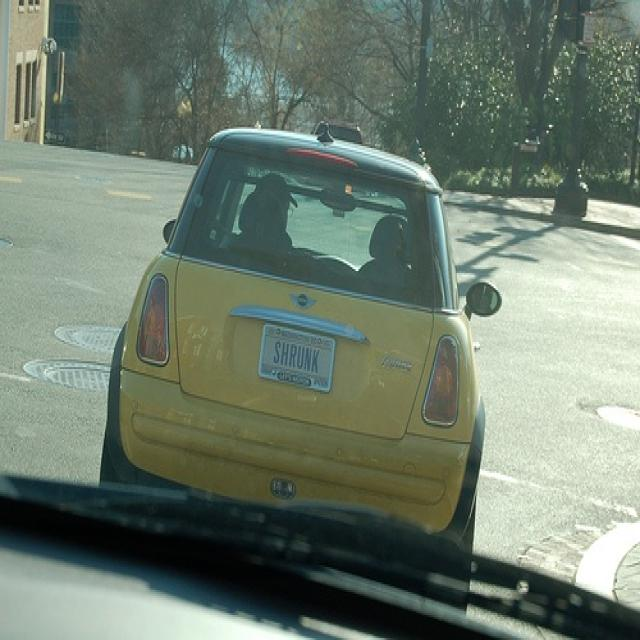car: (95, 119, 503, 613)
